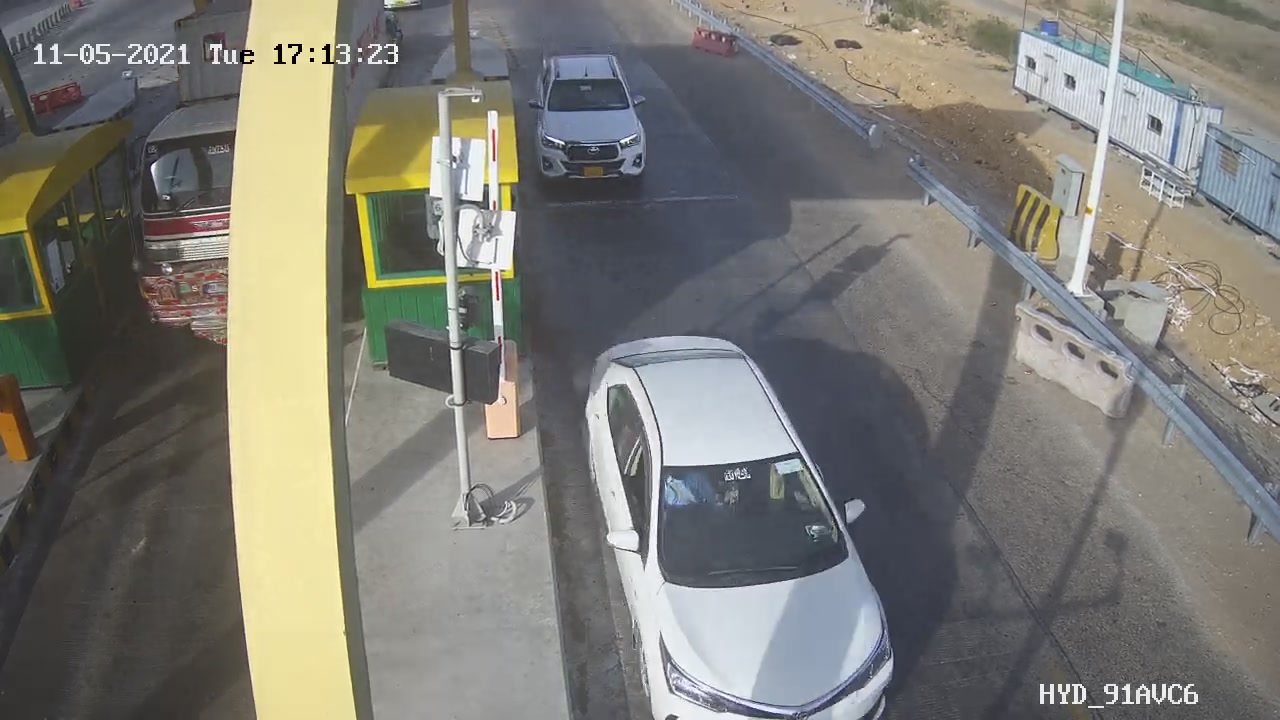F1: (514, 36, 673, 194)
